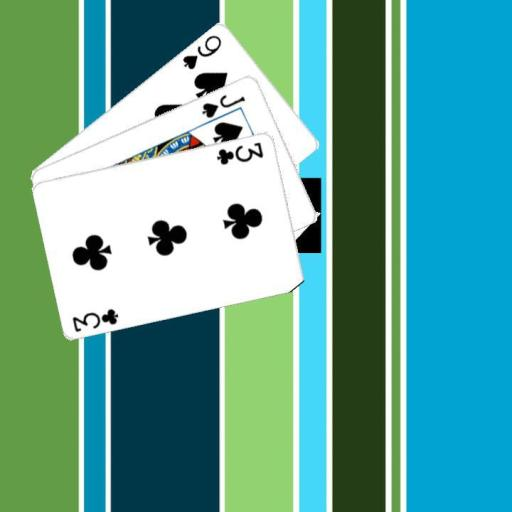3C: (69, 305, 121, 334), (214, 138, 266, 166)
9S: (179, 31, 223, 71)
JS: (198, 91, 247, 119)
